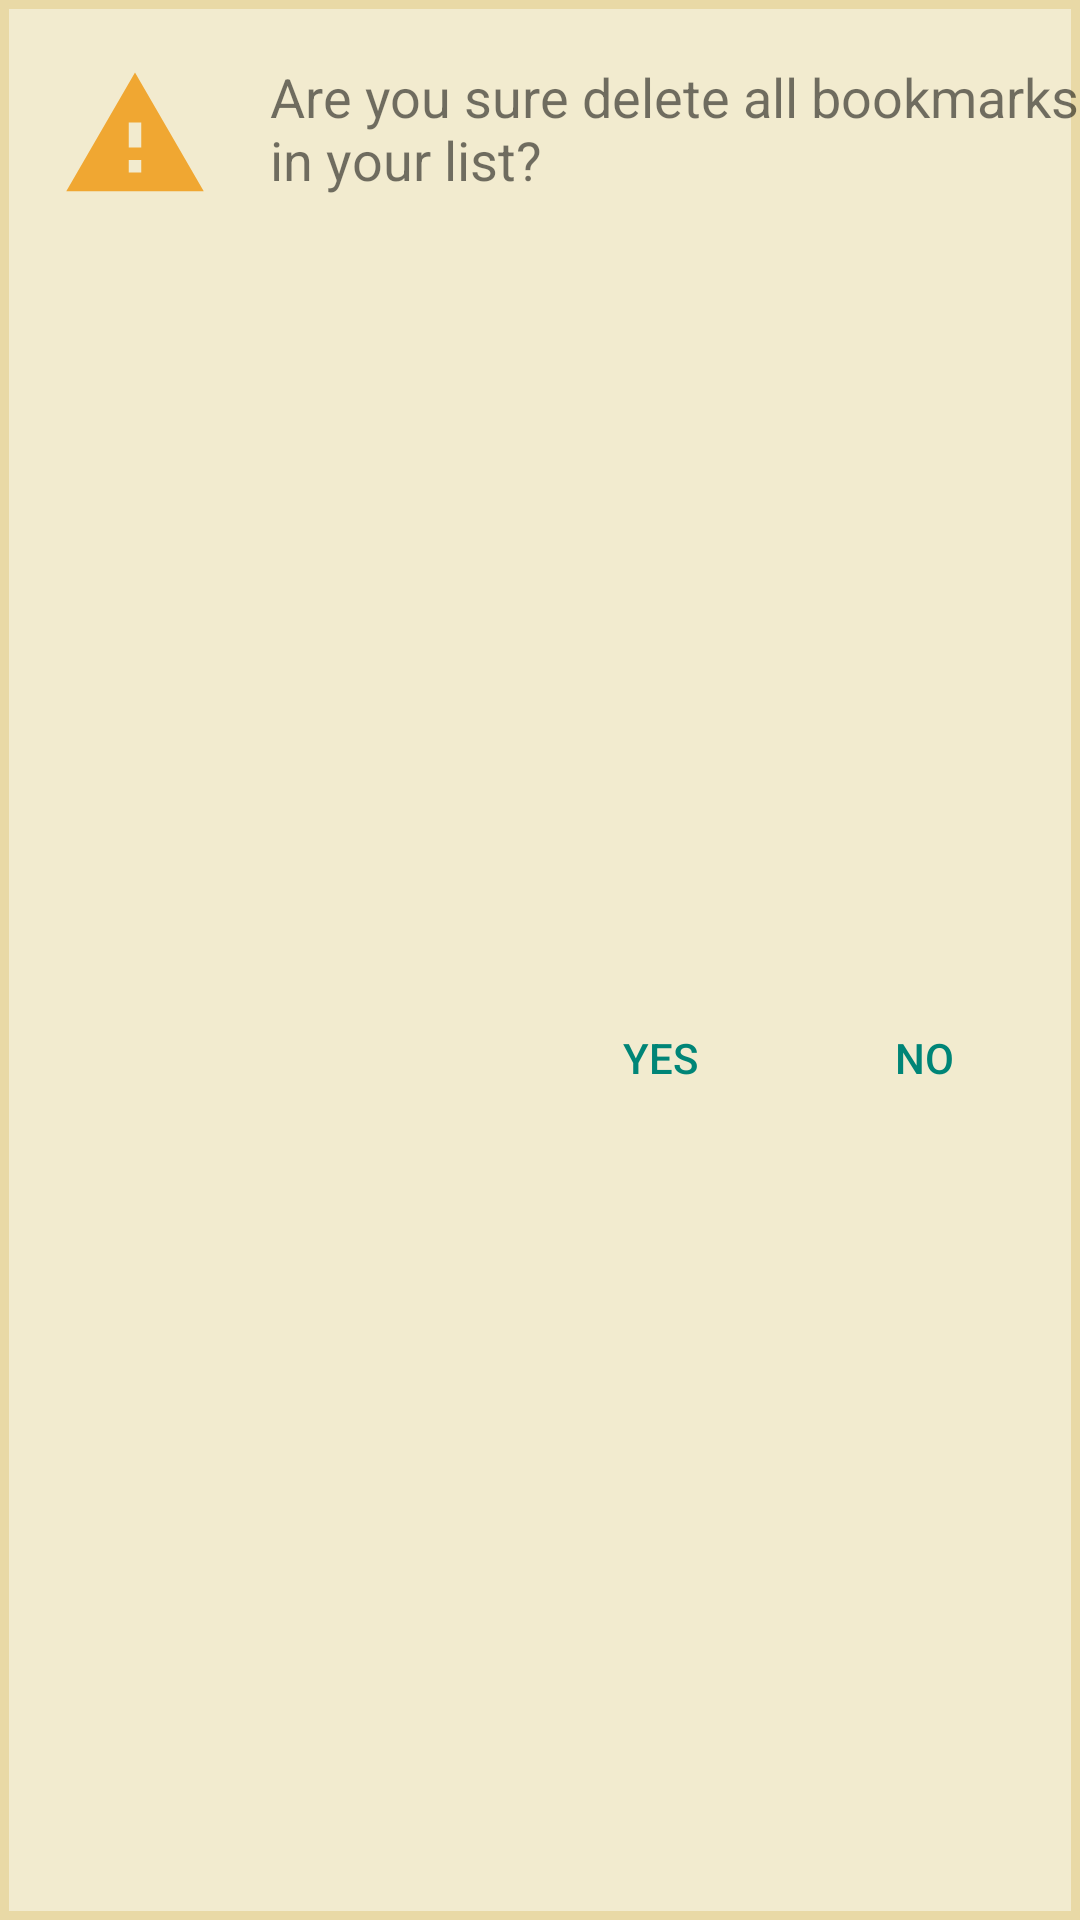

Icon bounding boxes for this 1080 x 1920 phone screenshot, format [x1, y1, x2, y2]:
Warning: [66, 73, 204, 192]
